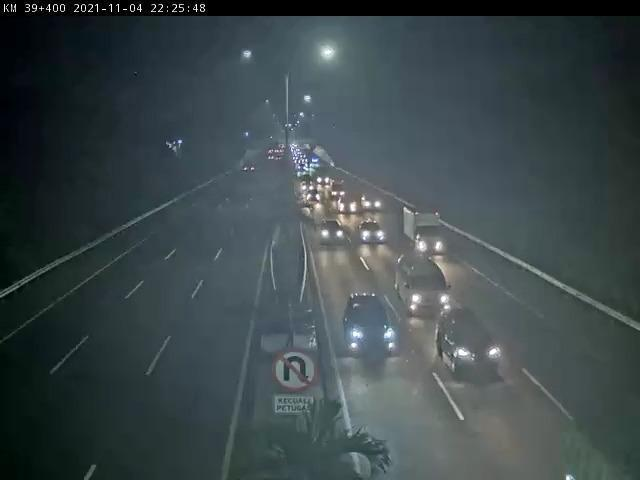bus: (395, 254, 452, 316)
car: (436, 306, 502, 373), (341, 289, 398, 354), (358, 217, 388, 245), (318, 217, 344, 243), (360, 190, 382, 212), (339, 192, 360, 215)
truck: (401, 205, 447, 254)
